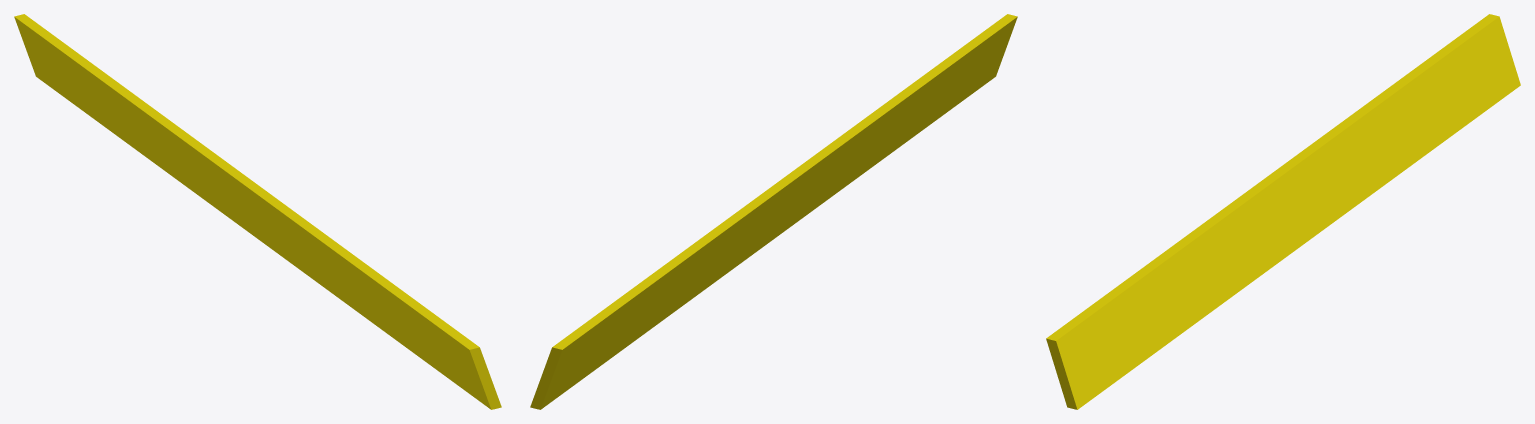
Rendered from Lenta's piece.fbx.
3 renders of one model, left to right at view 1: azimuth 30°, elevation 25°; view 2: azimuth 150°, elevation 25°; view 3: azimuth 330°, elevation 25°, orthographic. The views are drawn at different scales.
Visible parts, largest first — view 1: Lenta_piece; view 2: Lenta_piece; view 3: Lenta_piece.
Part boxes in pixels (x1,y1,x2,y2): Lenta_piece: (14,14,501,409); Lenta_piece: (530,14,1017,409); Lenta_piece: (1046,14,1520,409).
Size of the model in its own units: 14.93 by 28.85 by 364.
